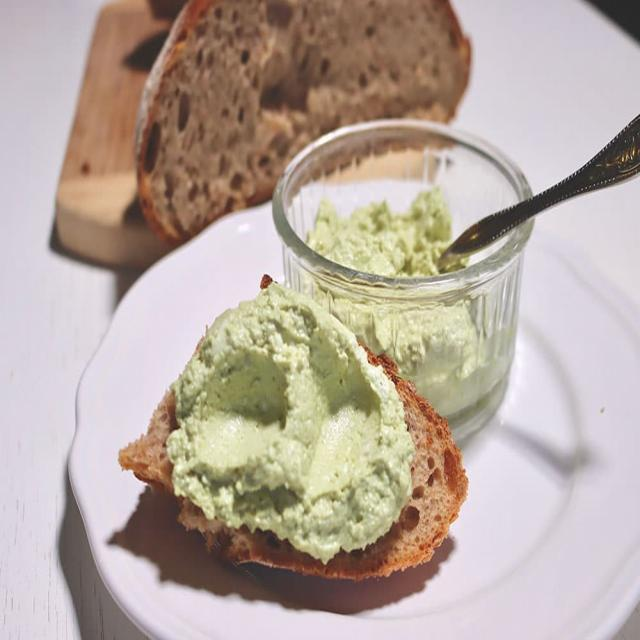Spread: (173, 284, 417, 556)
